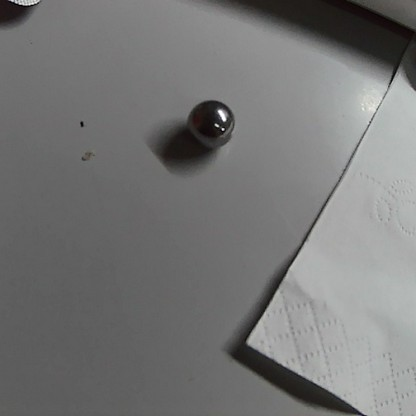ironball: (174, 80, 241, 150)
